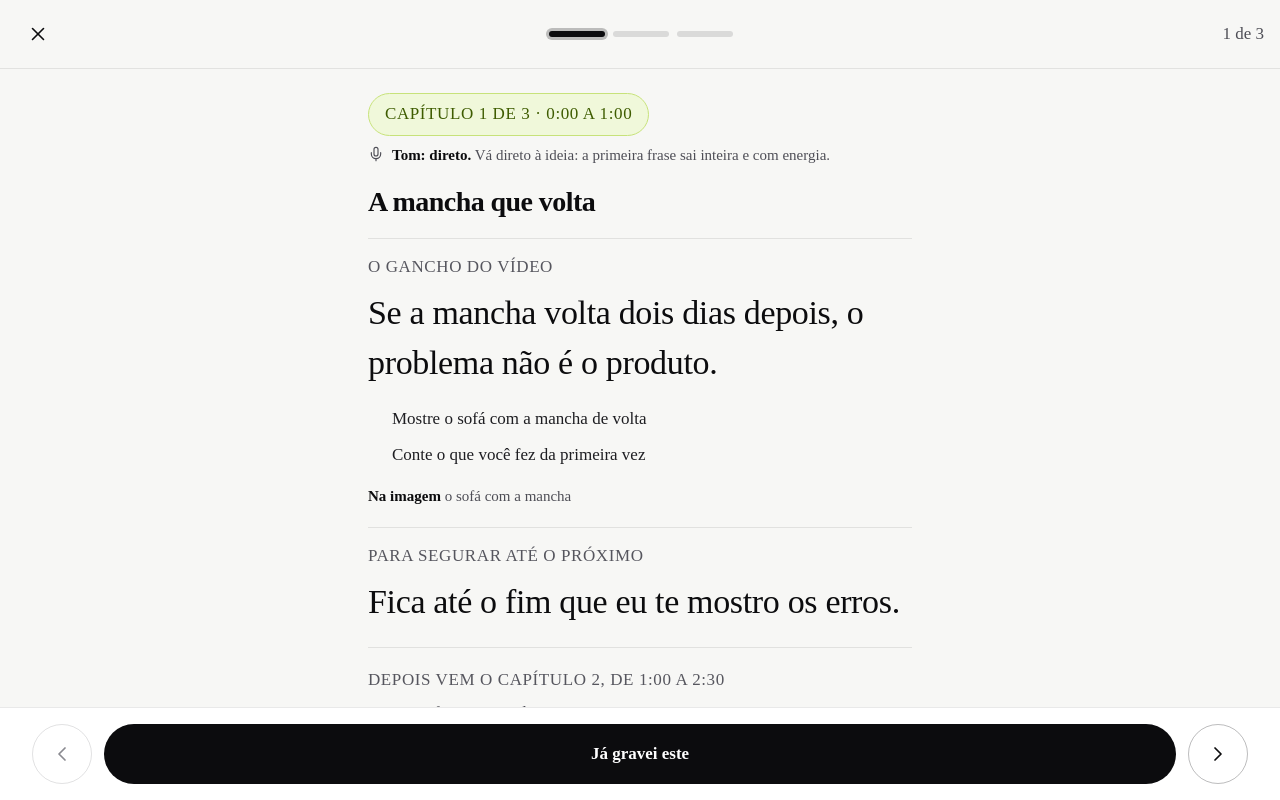
Scenario: GravacaoLongaTela › a seta da direita passa sem marcar
Expected: the element that starts with "Capítulo 1 de 3 · 0:00 a 1:00" is shown, [385, 104, 632, 123]
Step 1. Click the button named "Próximo capítulo, sem marcar" → [1218, 754], box [1188, 724, 1248, 784]
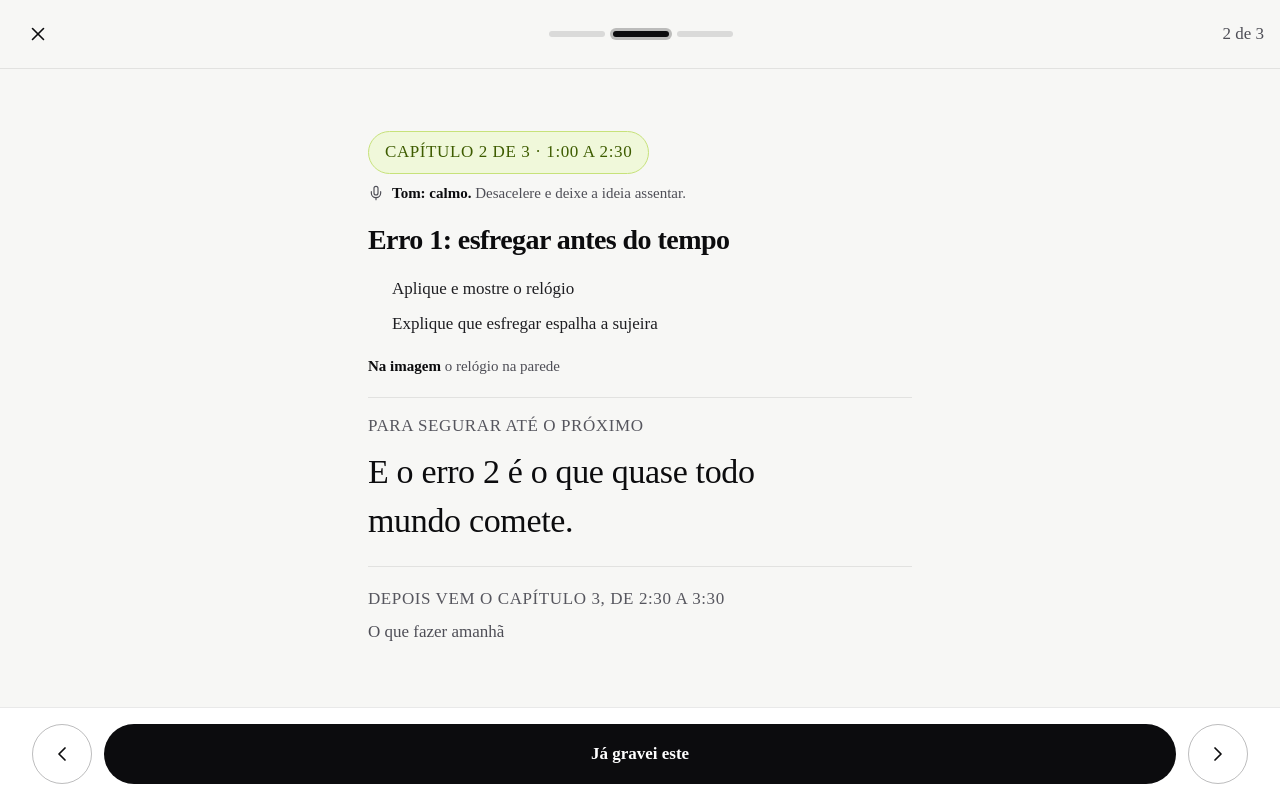
Expected: the element that starts with "Capítulo 2 de 3 · 1:00 a 2:30" is shown, [385, 142, 632, 161]
